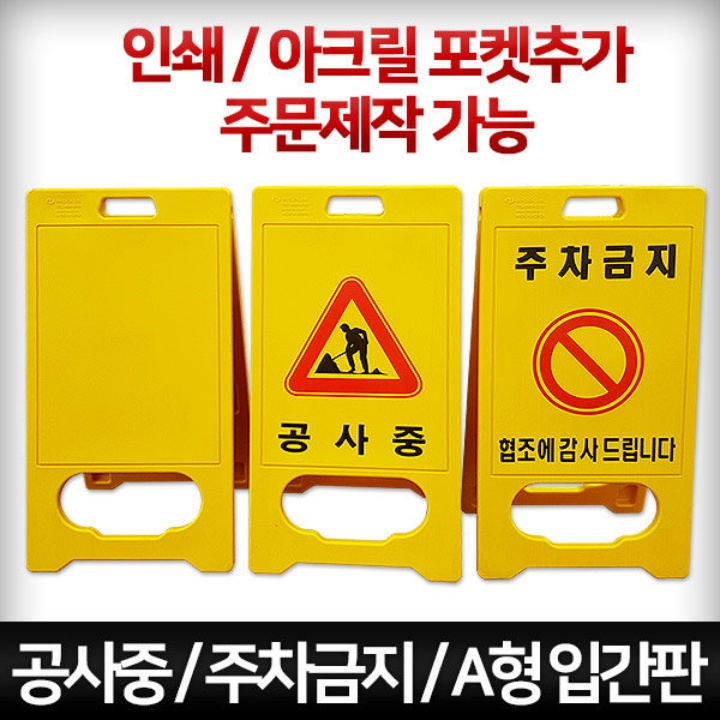const: (313, 315, 387, 379)
